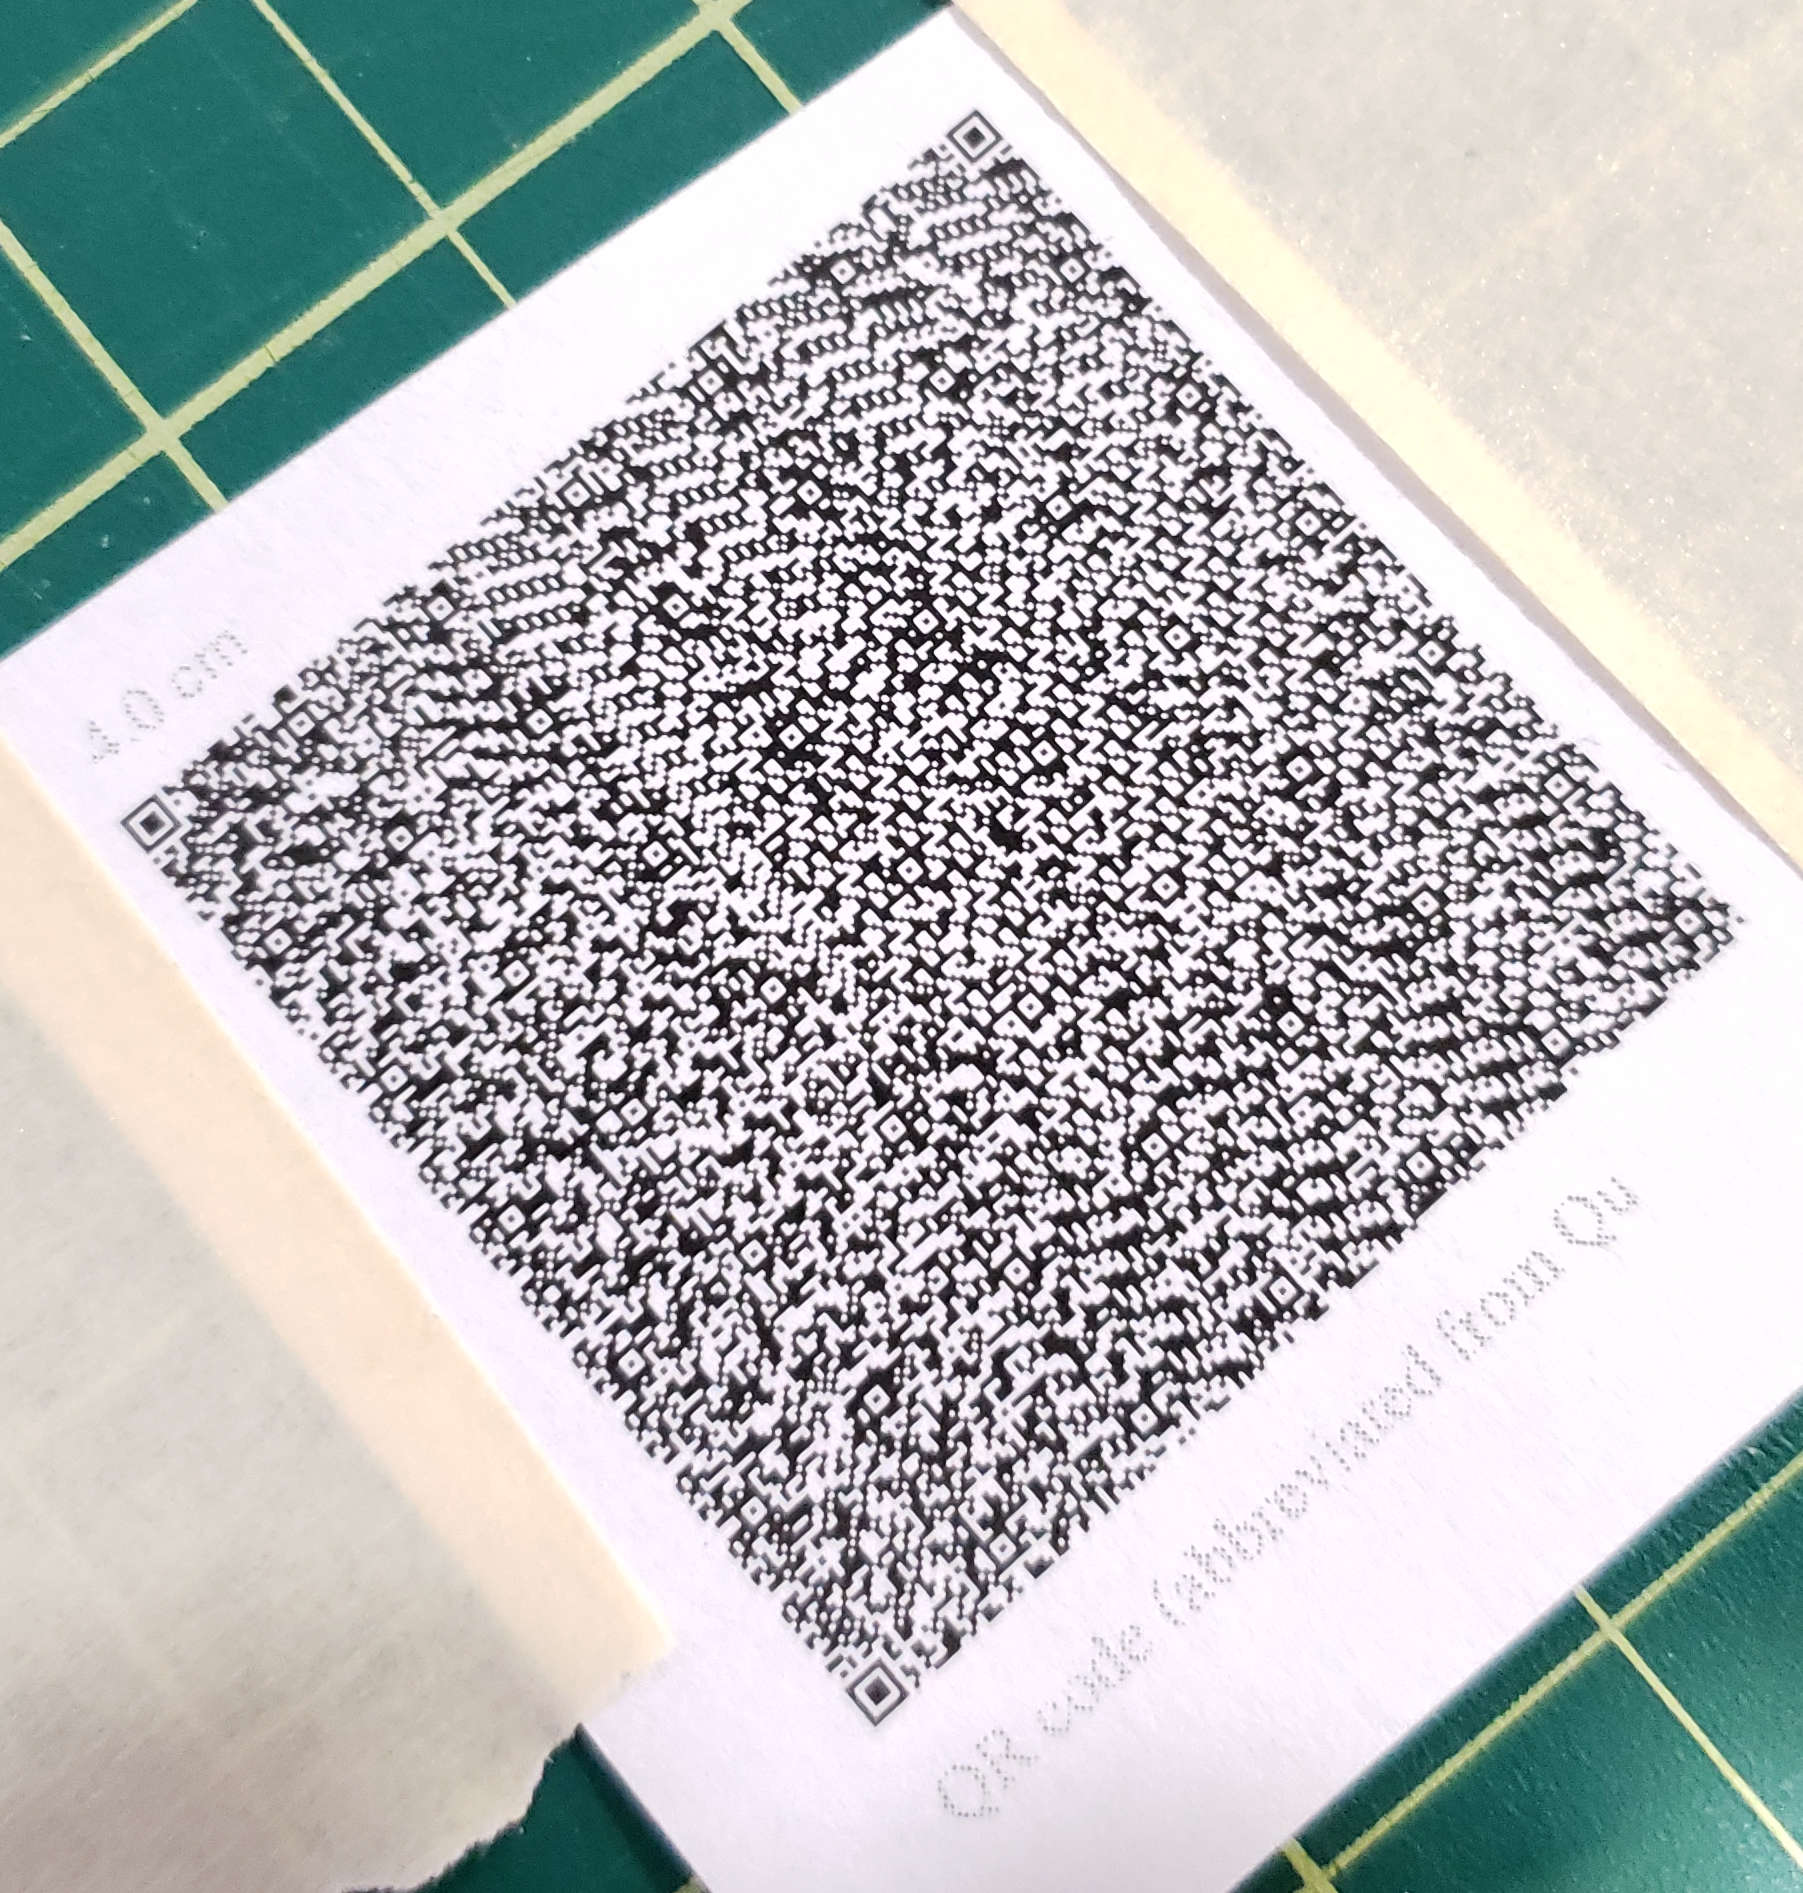QR_CODE: (78, 56, 1781, 1766)
